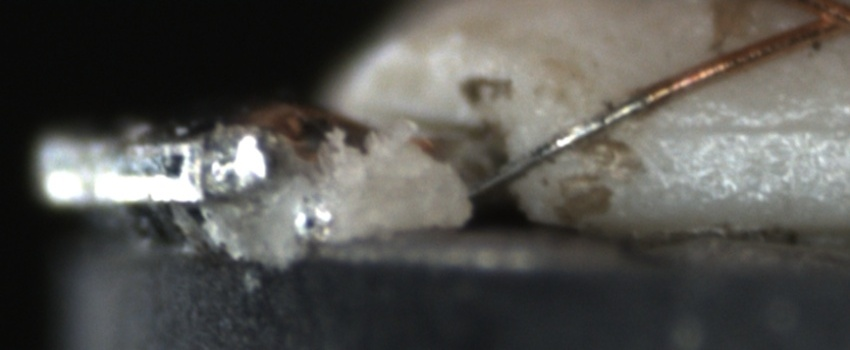CL: (791, 0, 850, 45)
DL: (670, 96, 850, 164)
TS: (469, 92, 651, 199)
